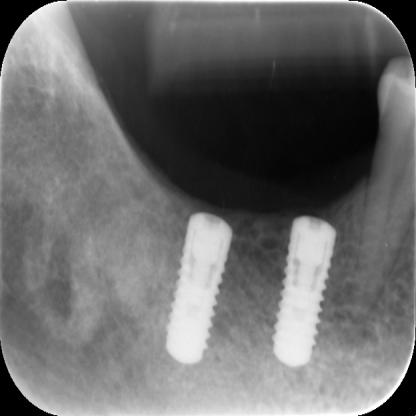ITI: (162, 207, 242, 370), (273, 205, 344, 382)
